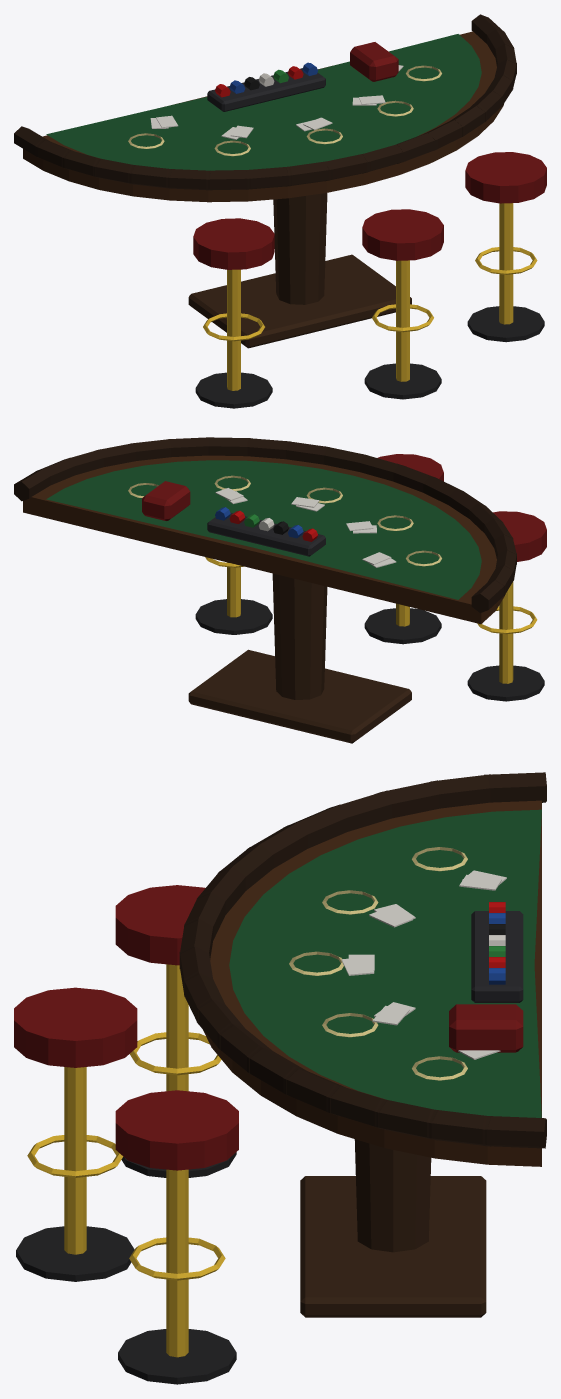
The model's file is blackjack_table.glb.
The picture shows the model from 3 angles, top to bottom: view 1: azimuth 30°, elevation 25°; view 2: azimuth 150°, elevation 25°; view 3: azimuth 270°, elevation 25°; orthographic projection. The views are drawn at different scales.
Parts seen in each view (by area): view 1: blackjack_table; view 2: blackjack_table; view 3: blackjack_table.
Boxes of the visible parts, left/top/right/bottom form: blackjack_table: left=14, top=14, right=546, bottom=408; blackjack_table: left=14, top=437, right=546, bottom=743; blackjack_table: left=14, top=772, right=546, bottom=1384.
Size of the model in its own units: 2.28 by 0.96 by 1.43.
